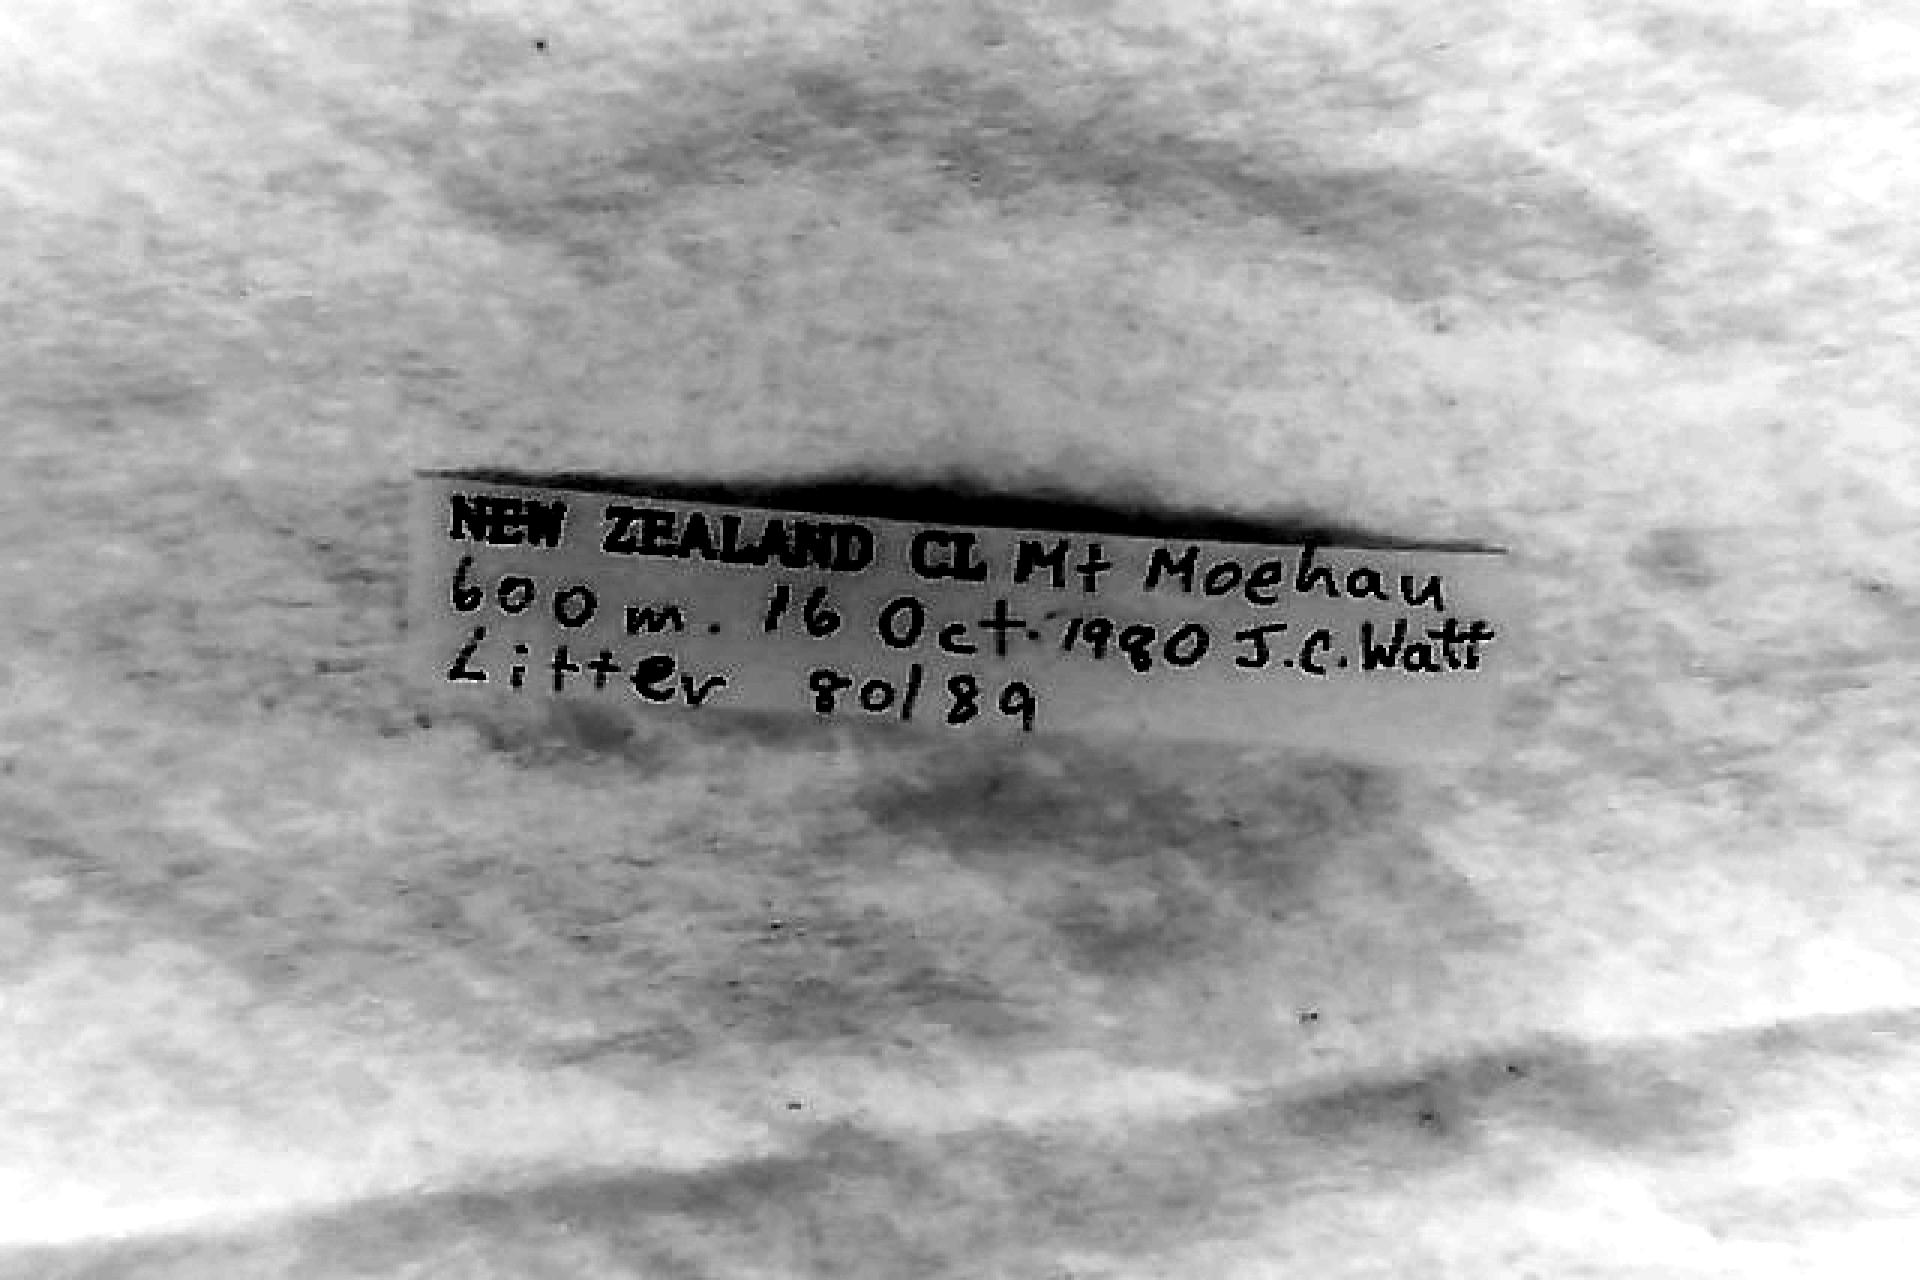mixed_label: (413, 473, 1507, 751)
